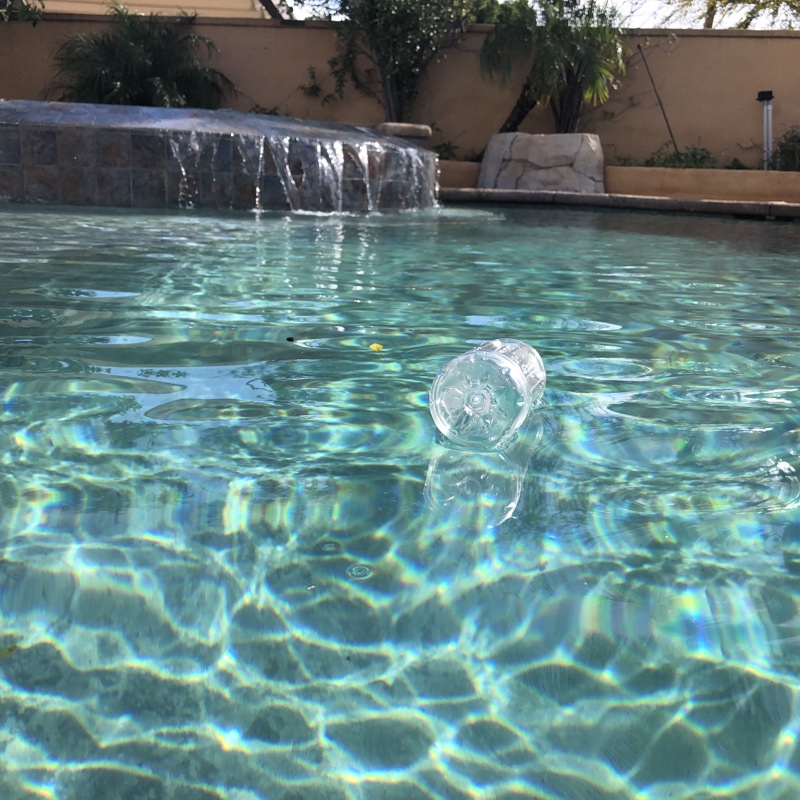Plastic Bottle: (426, 333, 549, 447)
